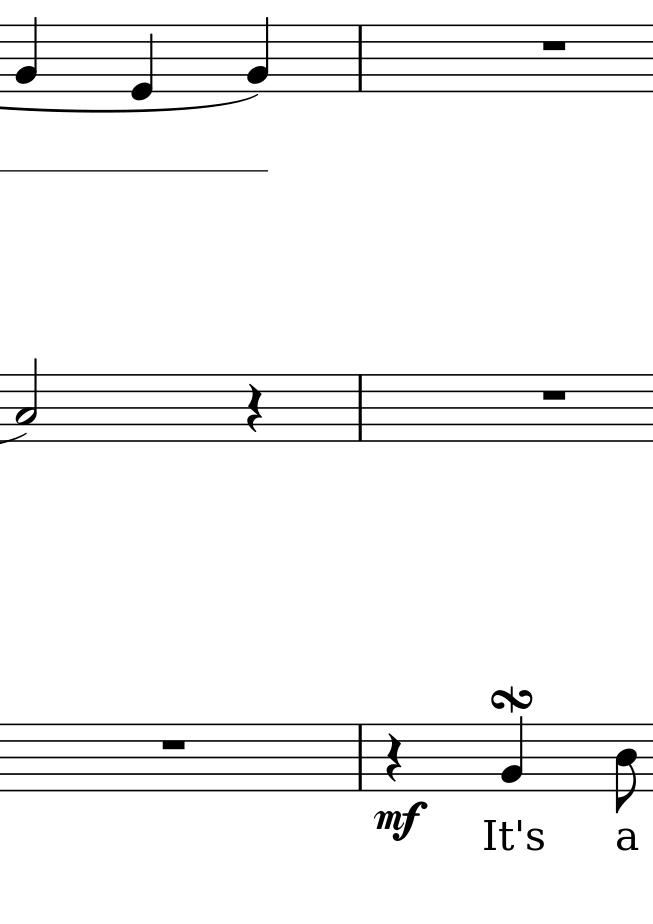2_3: (14, 357, 39, 443)
4_0: (129, 22, 157, 102)
4_2: (245, 14, 272, 94), (500, 715, 525, 795), (15, 12, 39, 94)
8_4: (614, 722, 640, 815)
Rests1: (539, 386, 570, 405), (537, 37, 569, 55), (157, 737, 189, 753)
Rests4: (382, 728, 404, 786), (244, 384, 264, 435)
Single_barline: (352, 374, 368, 441), (352, 25, 368, 90), (353, 724, 367, 791)
Turn_Slash: (488, 684, 536, 712)
mf: (373, 798, 428, 846)
